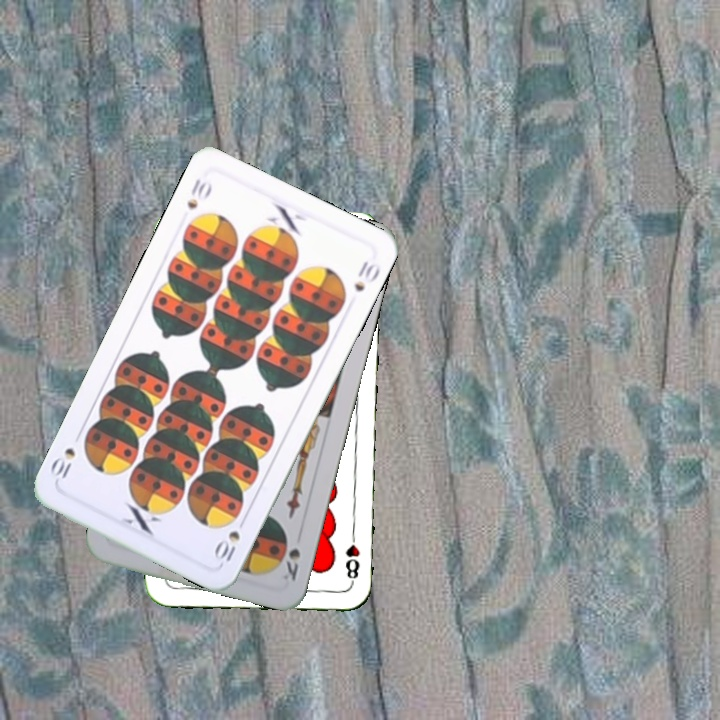H8: (342, 527, 363, 586)
S10: (211, 526, 243, 567), (183, 174, 215, 212)
SK: (281, 544, 303, 584)
